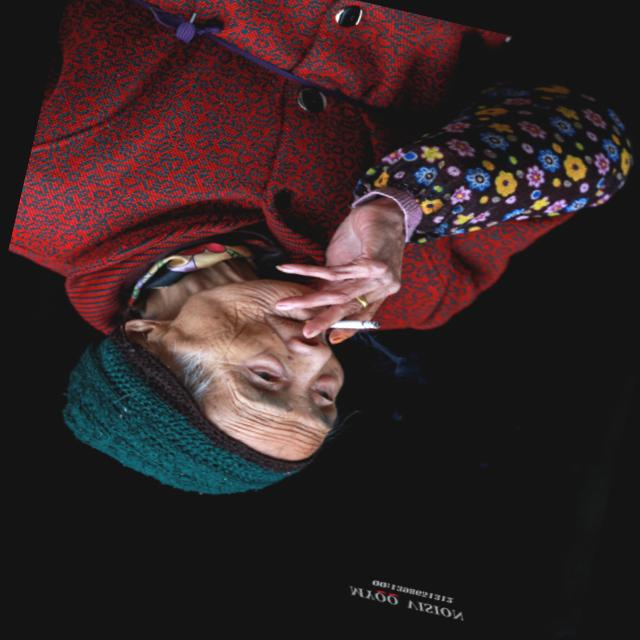cigarette: (333, 310, 382, 341)
